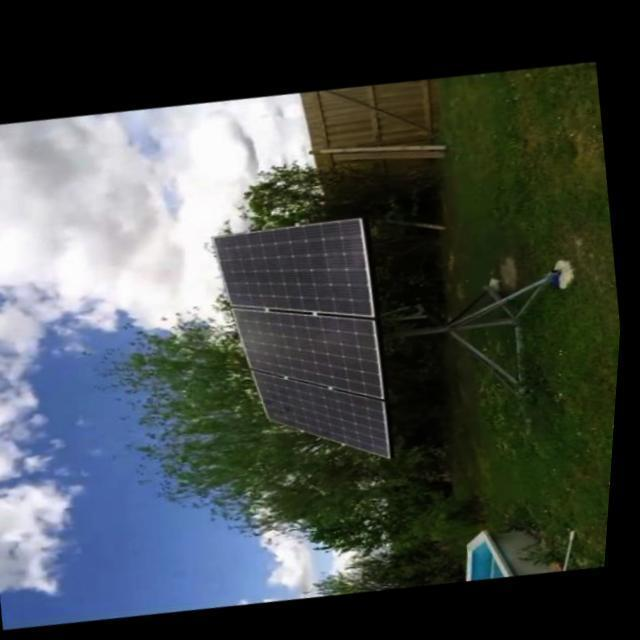Normal Solar Panel: (211, 205, 385, 335), (232, 284, 396, 415)
